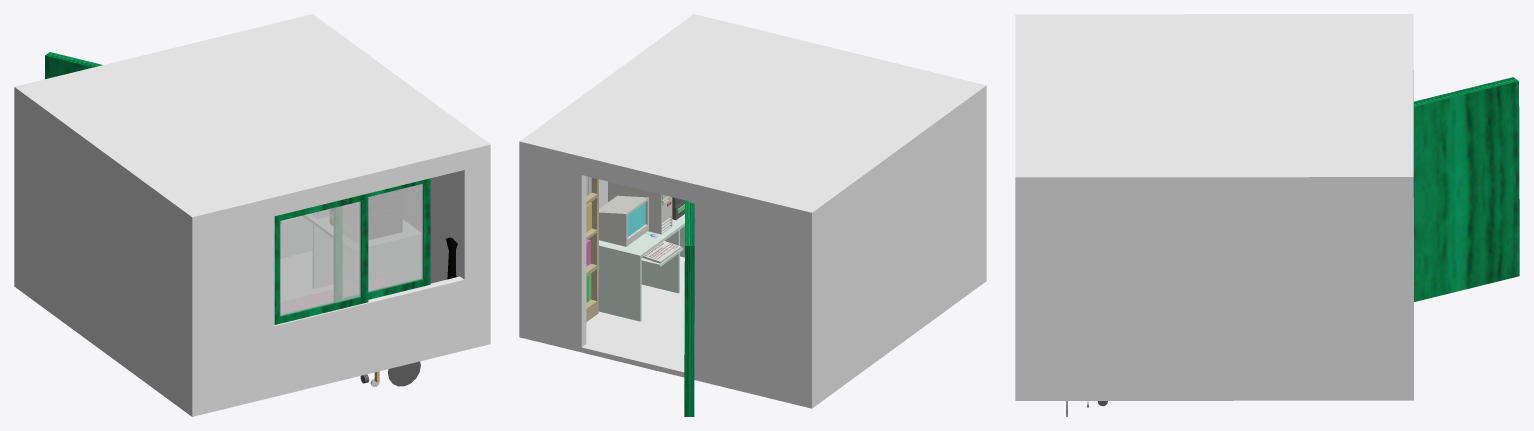
Rendered from myroom.glb.
The picture shows the model from 3 angles, left to right: view 1: azimuth 30°, elevation 25°; view 2: azimuth 150°, elevation 25°; view 3: azimuth 270°, elevation 25°; orthographic projection. The views are drawn at different scales.
Visible parts, largest first — view 1: Shape_IndexedFaceSet, Shape_IndexedFaceSet.050, Shape_IndexedFaceSet.066, Shape_IndexedFaceSet.010, Shape_IndexedFaceSet.049, Shape_IndexedFaceSet.065, Shape_IndexedFaceSet.001, Shape_IndexedFaceSet.005, Shape_IndexedFaceSet.052, Shape_IndexedFaceSet.060, Shape_IndexedFaceSet.062; view 2: Shape_IndexedFaceSet, Shape_IndexedFaceSet.010, Shape_IndexedFaceSet.001, Shape_IndexedFaceSet.008, Shape_IndexedFaceSet.069, Shape_IndexedFaceSet.028, Shape_IndexedFaceSet.009; view 3: Shape_IndexedFaceSet, Shape_IndexedFaceSet.001.
Boxes of the visible parts, x1,y1,x2,y2 form: Shape_IndexedFaceSet: (14,14,490,416); Shape_IndexedFaceSet.050: (280,201,360,316); Shape_IndexedFaceSet.066: (343,184,423,297); Shape_IndexedFaceSet.010: (281,214,420,288); Shape_IndexedFaceSet.049: (274,193,368,324); Shape_IndexedFaceSet.065: (334,178,430,301); Shape_IndexedFaceSet.001: (45,52,102,79); Shape_IndexedFaceSet.005: (281,278,390,313); Shape_IndexedFaceSet.052: (388,361,420,386); Shape_IndexedFaceSet.060: (369,193,402,213); Shape_IndexedFaceSet.062: (331,207,402,226); Shape_IndexedFaceSet: (519,14,986,408); Shape_IndexedFaceSet.010: (598,214,684,321); Shape_IndexedFaceSet.001: (684,200,694,416); Shape_IndexedFaceSet.008: (599,195,648,246); Shape_IndexedFaceSet.069: (608,181,672,234); Shape_IndexedFaceSet.028: (586,177,598,321); Shape_IndexedFaceSet.009: (627,202,645,236); Shape_IndexedFaceSet: (1015,14,1413,400); Shape_IndexedFaceSet.001: (1413,77,1519,301).
Size of the model in its own units: 36.6 by 28.83 by 47.85.
72 materials, 3 textured.
